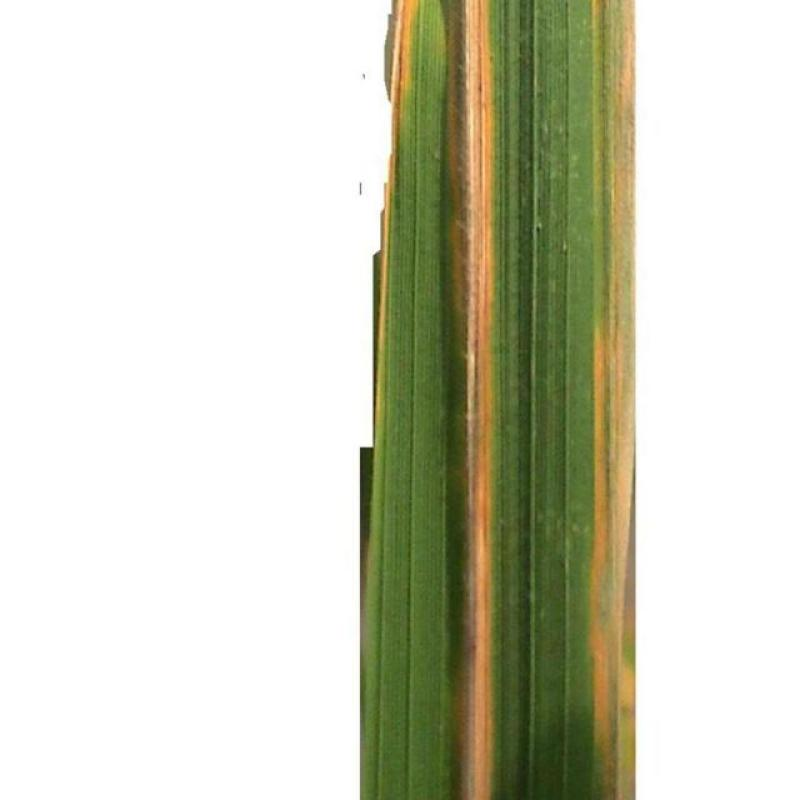Bacterial_Leaf_Blight: (569, 41, 665, 800), (355, 0, 427, 659), (450, 0, 506, 780)
